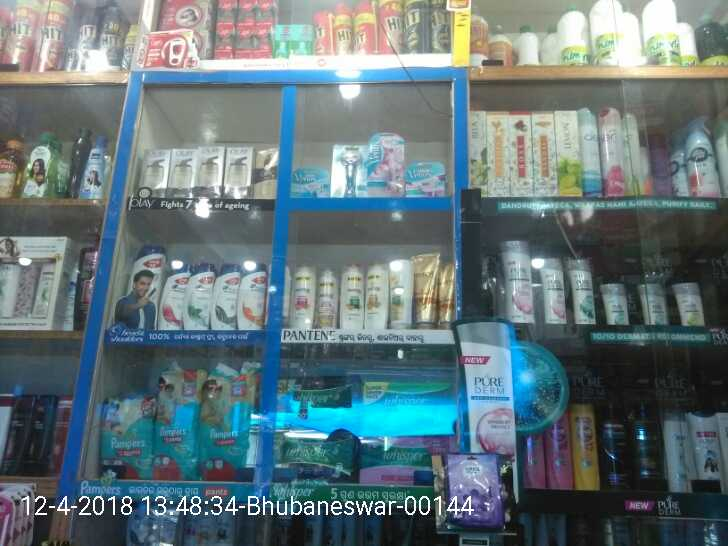ambipureVesus: (688, 114, 723, 196), (599, 106, 622, 194), (579, 106, 598, 195), (622, 112, 641, 194), (669, 129, 687, 196)
venus: (366, 131, 404, 197), (330, 144, 365, 196), (405, 161, 446, 197), (292, 168, 330, 197)
